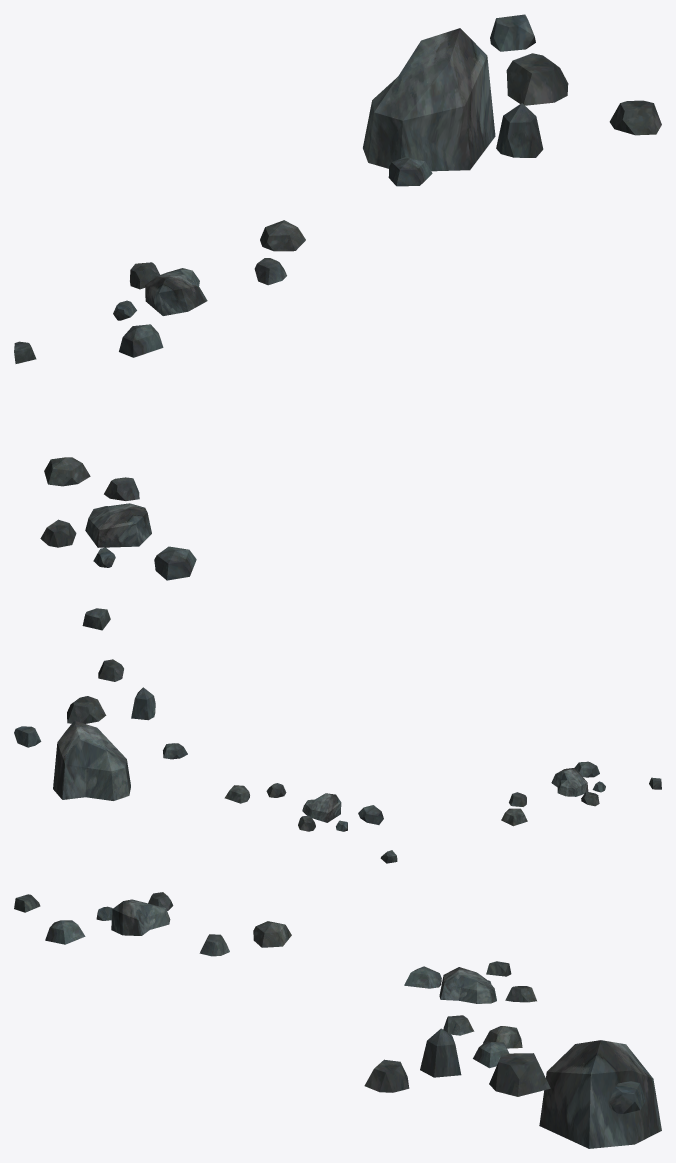
Rendered from object_rubble25.fbx.
3 views of the same model, one above another, from view 1: azimuth 30°, elevation 25°; view 2: azimuth 150°, elevation 25°; view 3: azimuth 270°, elevation 25° (orthographic). The views are drawn at different scales.
Visible parts, largest first — view 1: obj0.099; view 2: obj0.099; view 3: obj0.099.
Part boxes in pixels (x1=…): obj0.099: x1=14, y1=14, x2=661, y2=630; obj0.099: x1=14, y1=659, x2=661, y2=863; obj0.099: x1=14, y1=892, x2=661, y2=1148.
Size of the model in its own units: 9.24 by 2.1 by 7.48.
